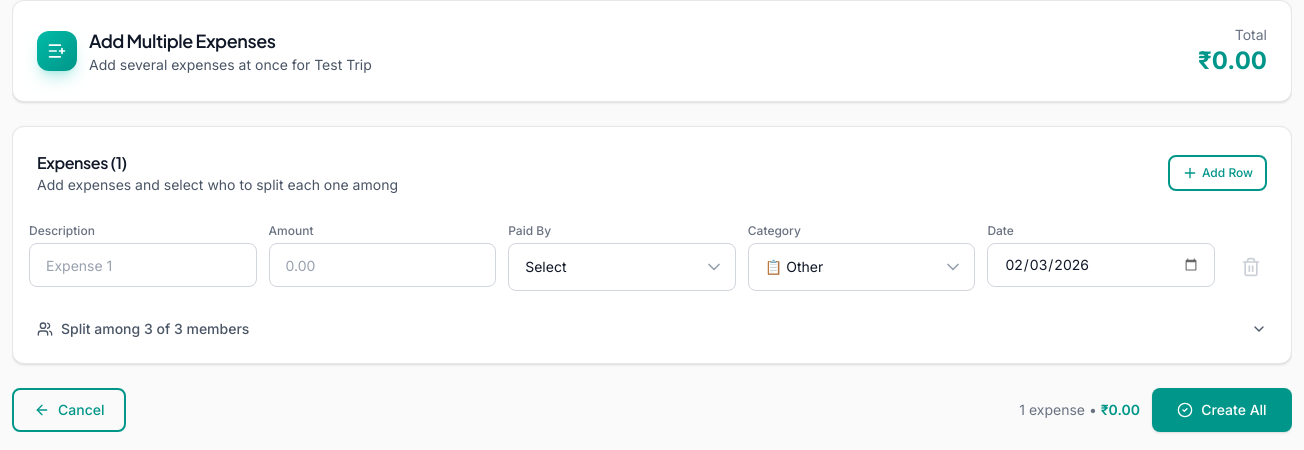
Test: BulkExpenseForm › handles API error gracefully
# Fill in minimum required fields
Type "Test" into the field with placeholder "Expense 1" at (143, 265), box [29,243,257,287]
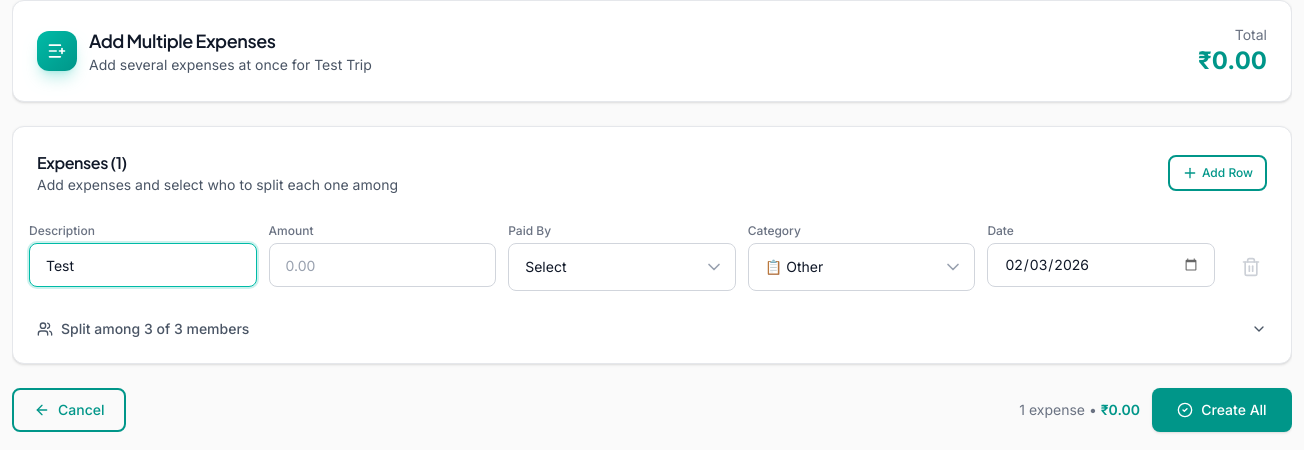
Type "50" into the number field with placeholder "0.00" at (382, 265), box [269,243,496,287]
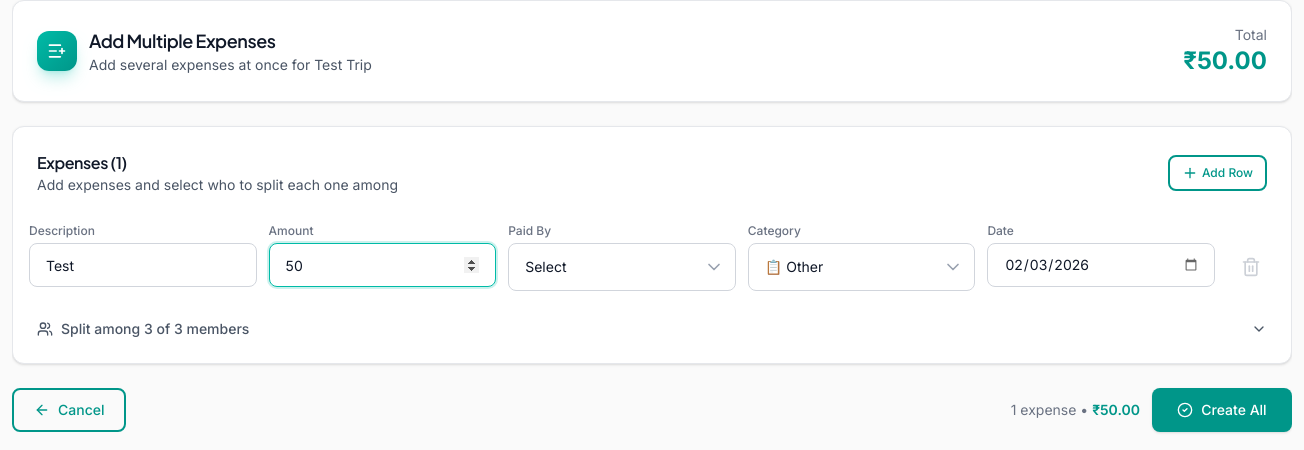
Select "You" in the dropdown below "Paid By" at (622, 267), box [508,243,736,291]
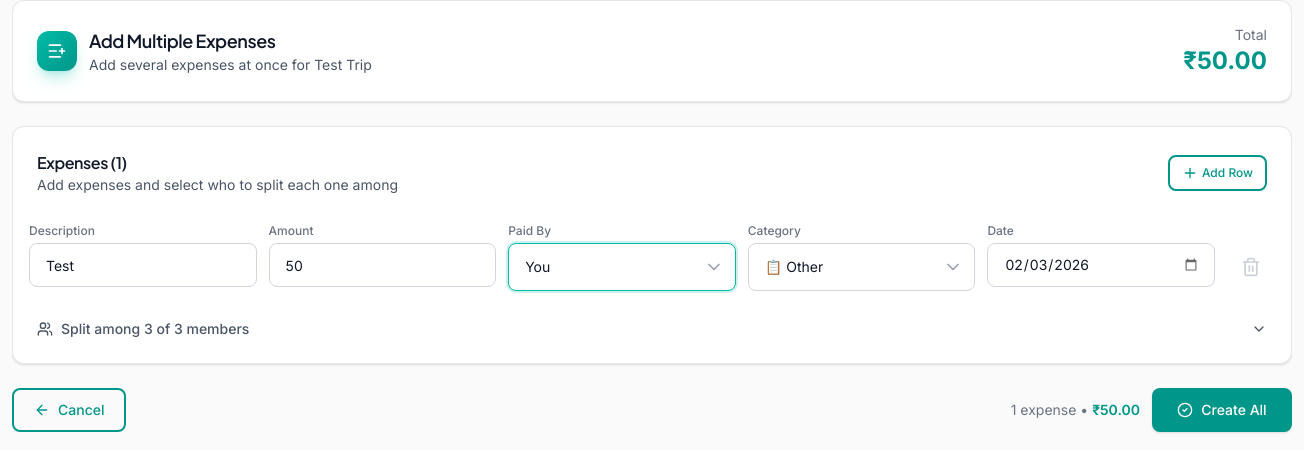
Click the button "Create All" at (1222, 410), box [1152,388,1292,432]
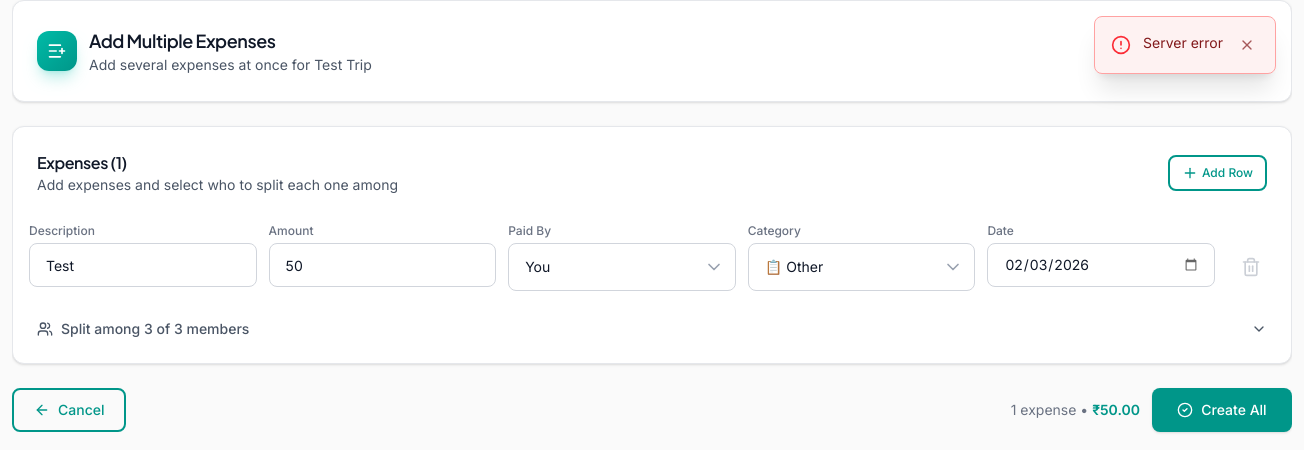
Result: the text "Server error" is shown at [1143,33,1223,53]
